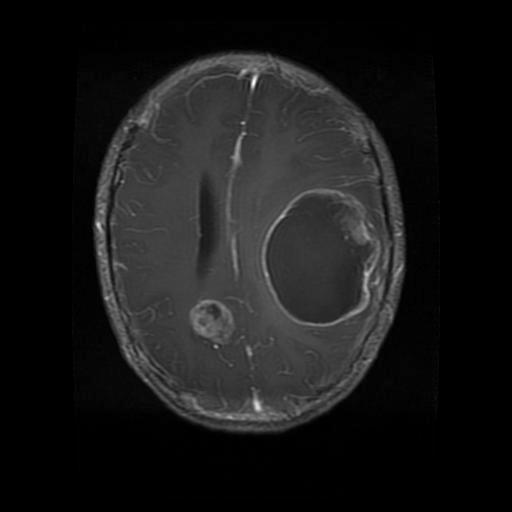Tumour-Glioma: (256, 179, 383, 331)
